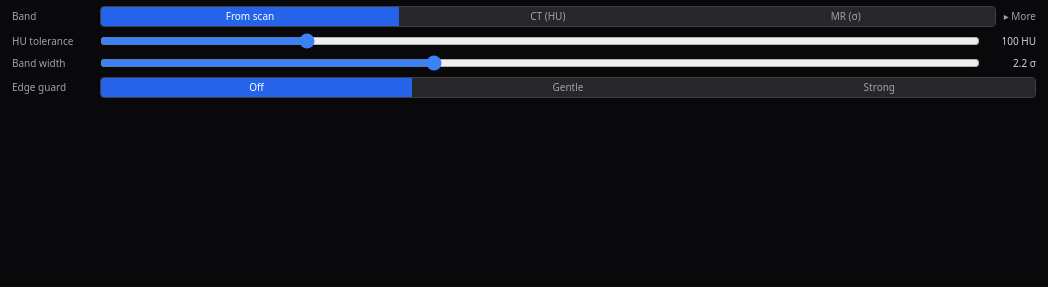
it: SmartToolControls: essentials and More › Level Trace shows its essentials, folds the rest under More, and More opens them
Expected: the element named "Band" is shown, [100, 6, 996, 27]
Expected: the element named "Edge guard" is shown, [100, 77, 1036, 98]
Click the button "▸ More".
click(1020, 16)  # box [1004, 9, 1036, 24]
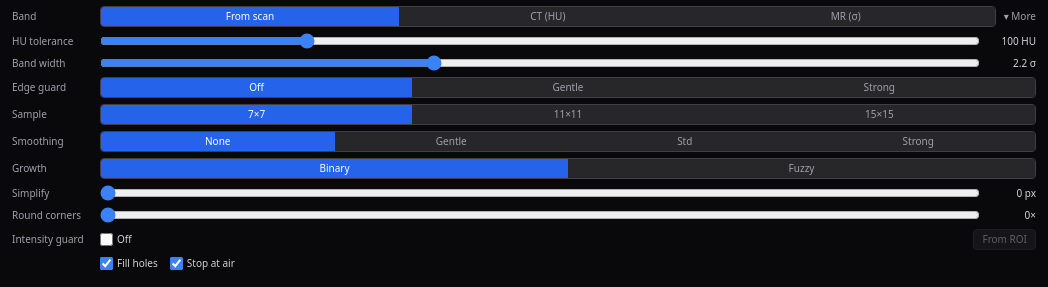
Now the element named "Smoothing" is shown, box [100, 131, 1036, 152]
